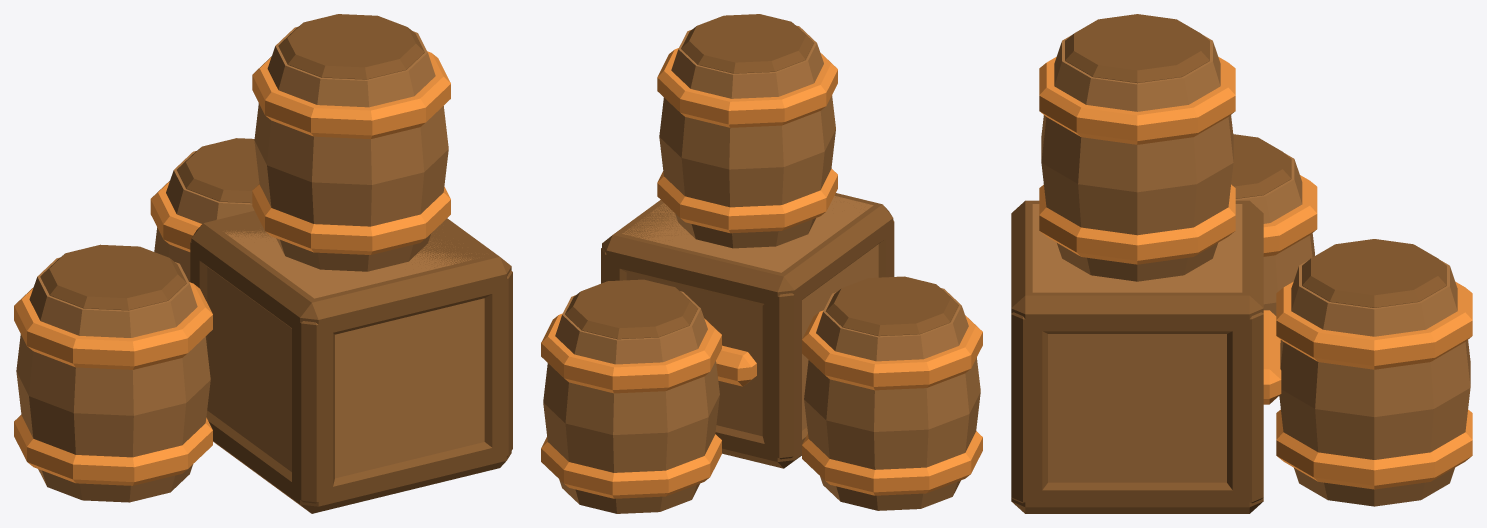
Rendered from Prop_pirate_harbor_BarrelStack.glb.
The picture shows the model from 3 angles, left to right: view 1: azimuth 30°, elevation 25°; view 2: azimuth 150°, elevation 25°; view 3: azimuth 270°, elevation 25°; orthographic projection. The views are drawn at different scales.
Parts seen in each view (by area): view 1: Wood_B5793F, WoodDark_8A5A2B, HarborOrange_FF9A3D; view 2: Wood_B5793F, WoodDark_8A5A2B, HarborOrange_FF9A3D; view 3: Wood_B5793F, WoodDark_8A5A2B, HarborOrange_FF9A3D.
Part boxes in pixels (x1,y1,x2,y2): Wood_B5793F: [16, 27, 484, 502]; WoodDark_8A5A2B: [40, 14, 512, 513]; HarborOrange_FF9A3D: [14, 51, 450, 485]; Wood_B5793F: [543, 25, 980, 513]; WoodDark_8A5A2B: [565, 14, 958, 468]; HarborOrange_FF9A3D: [541, 48, 982, 498]; Wood_B5793F: [1032, 35, 1470, 506]; WoodDark_8A5A2B: [1011, 14, 1446, 513]; HarborOrange_FF9A3D: [1039, 57, 1472, 489].
Size of the model in its own units: 6.01 by 6.02 by 5.94.
